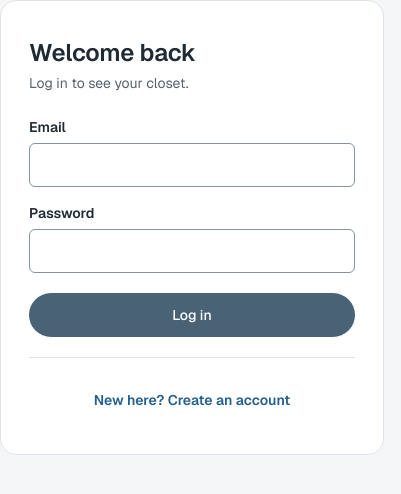
it: AuthForm › toggles to sign-up form
Click the button "New here? Create an account" at (192, 400), box [29,378,355,422]
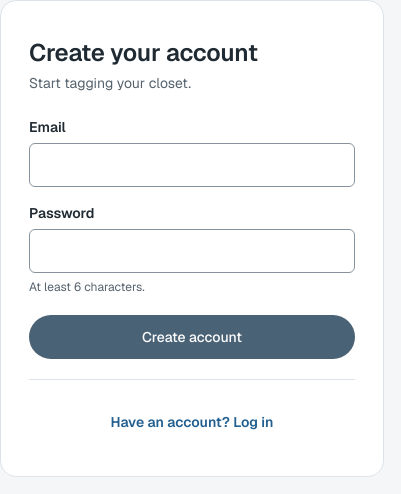
Now the heading "Create your account" is shown, box [29,37,258,68]
Now the button "Create account" is shown, box [29,315,355,359]
